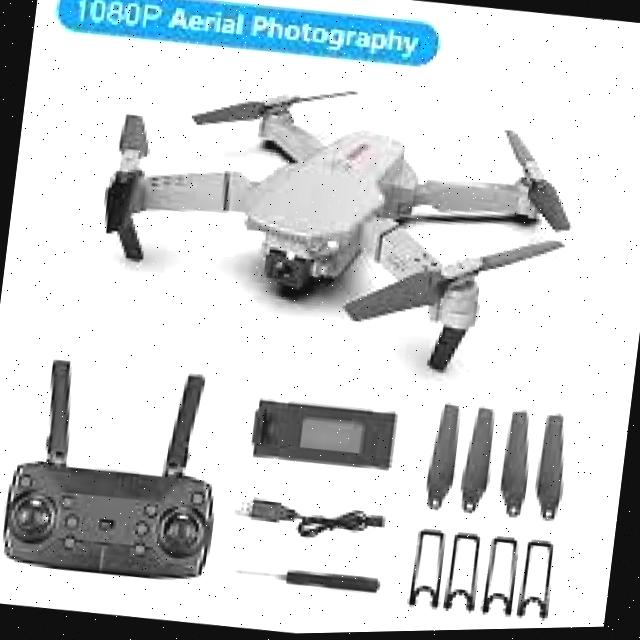drone: (74, 50, 592, 410)
